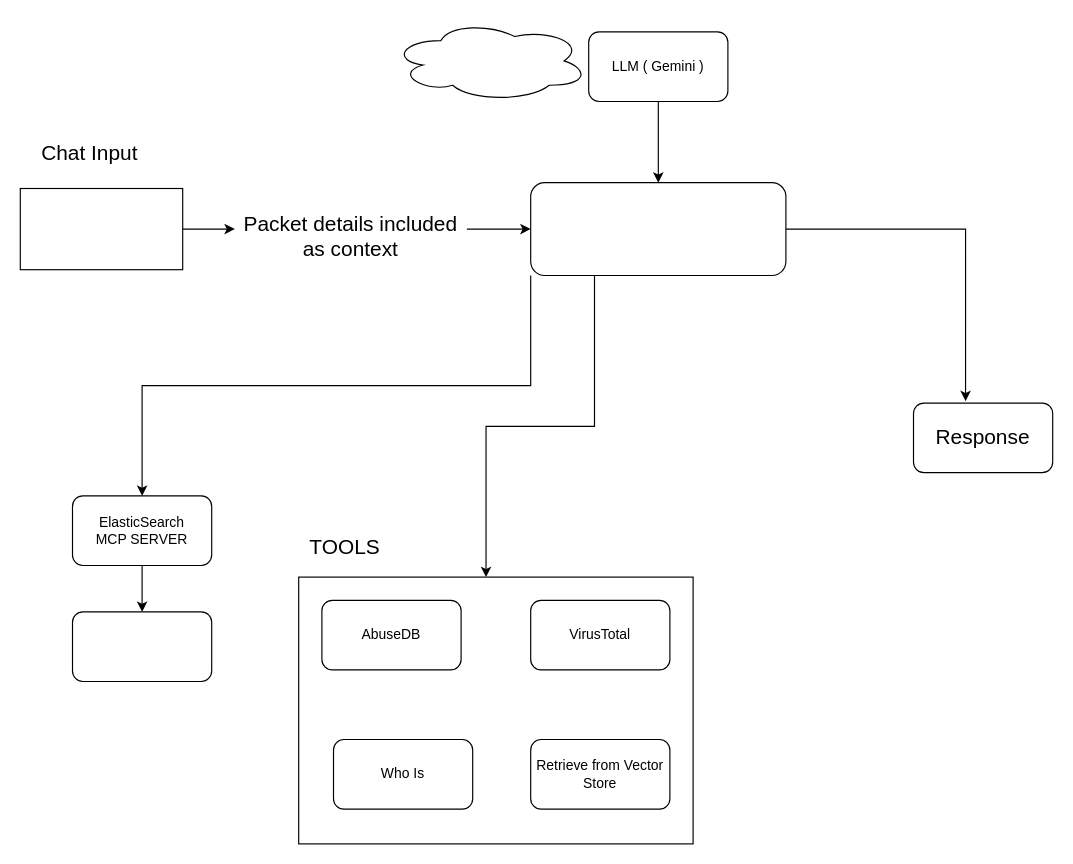
Some shapes in this 1073 by 864 pixel diagram are drawn without their labels. The shapes that lost their labels are listed below. From the top down, each one's centre as x and y in pixels, then its label:
At point (489, 60): "Model Agent's Brain".
At point (101, 228): "CHAT".
At point (658, 229): "Conversational Agent".
At point (141, 646): "Elastic Search storage".
